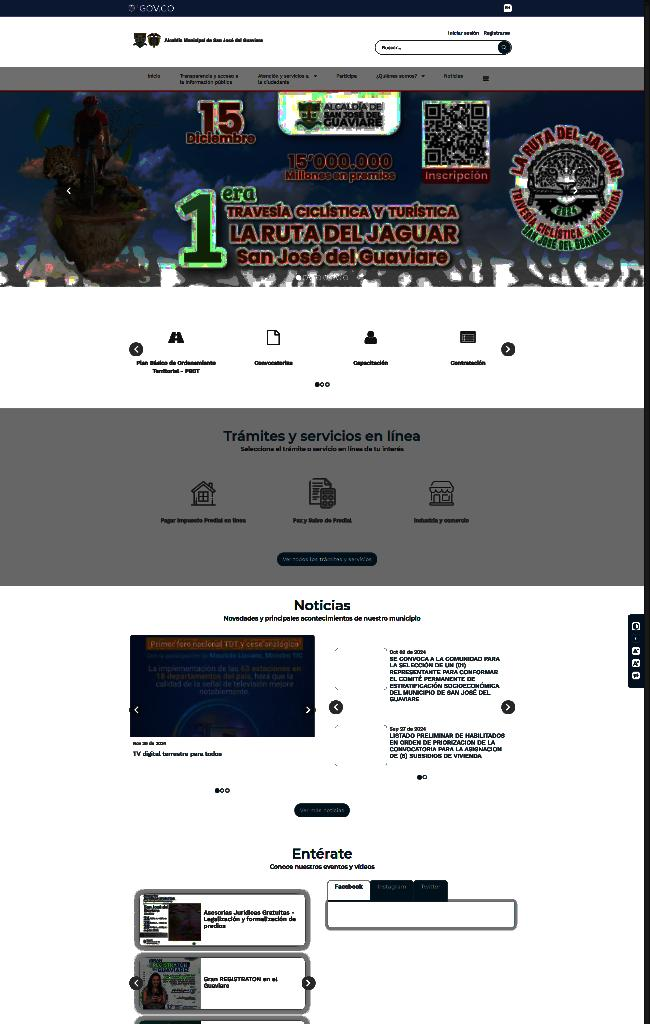banner principal: (0, 88, 644, 290)
barra accesibilidad: (628, 614, 644, 688)
barra govco: (127, 2, 514, 16)
btn buscador: (374, 39, 512, 55)
btn idiomas: (503, 4, 511, 12)
btn inicio sesion: (447, 29, 479, 37)
btn registro: (484, 30, 512, 38)
btn tramites: (278, 552, 378, 566)
logogovco: (127, 4, 175, 14)
menu principal: (146, 70, 491, 88)
